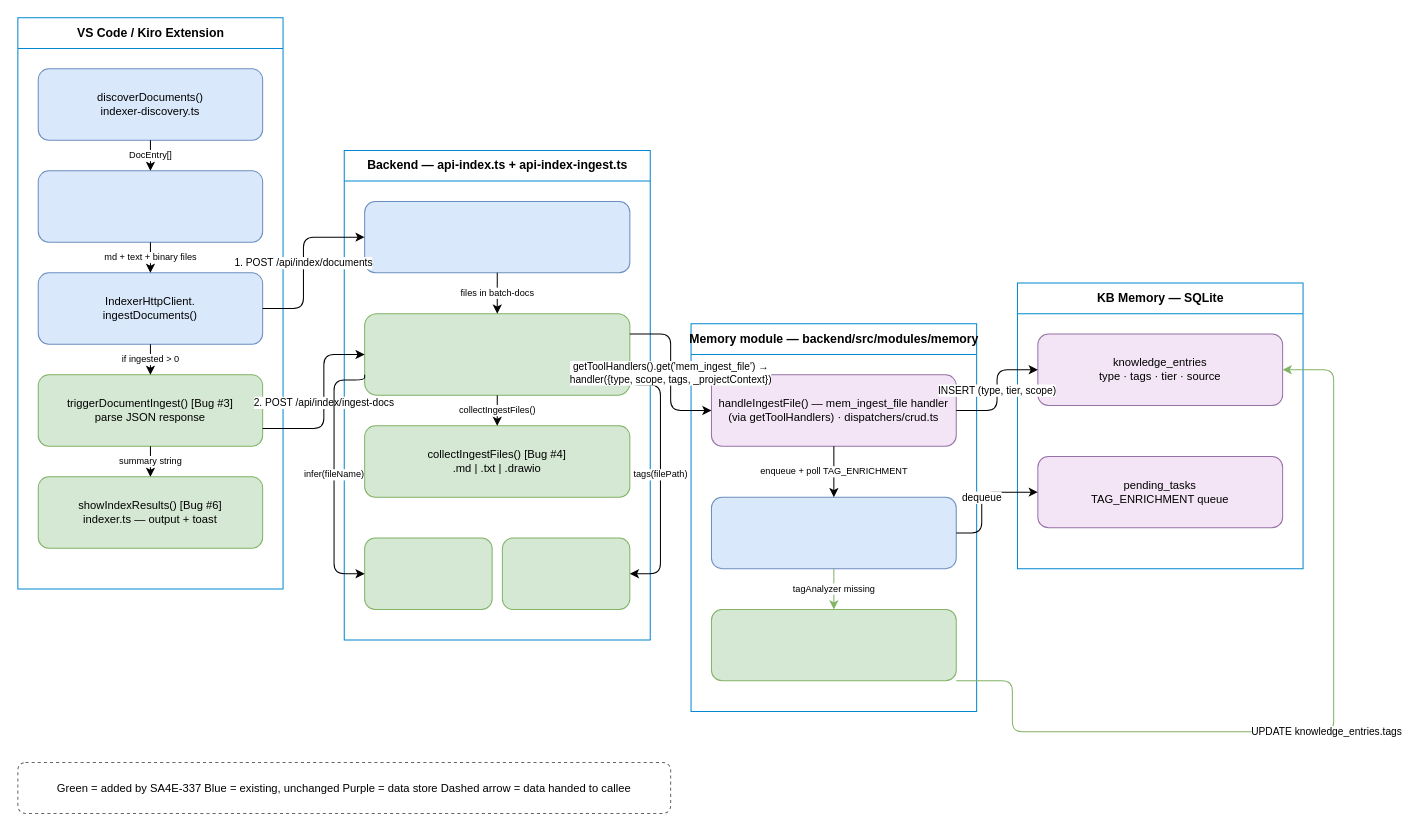
Image size: 1420x831. Some labels were removed from this diagram. Here are the shapes that lost their labels. From the top down, the centre of each, then its label:
the point at 150,206: DocumentIndexer.run() classify + read content
the point at 497,236: handleIndexDocuments() write batch to Temp
the point at 497,354: handleIngestDocsFromTemp() [QA-001] POST /api/index/ingest-docs
the point at 833,532: TaskWorker. processTagEnrichment()
the point at 428,573: inferTypeFromPath() [Bug #1]
the point at 565,573: extractTagsFromPath() [Bug #2]
the point at 833,644: fallbackTagExtraction() [Bug #5] path + content heuristics
